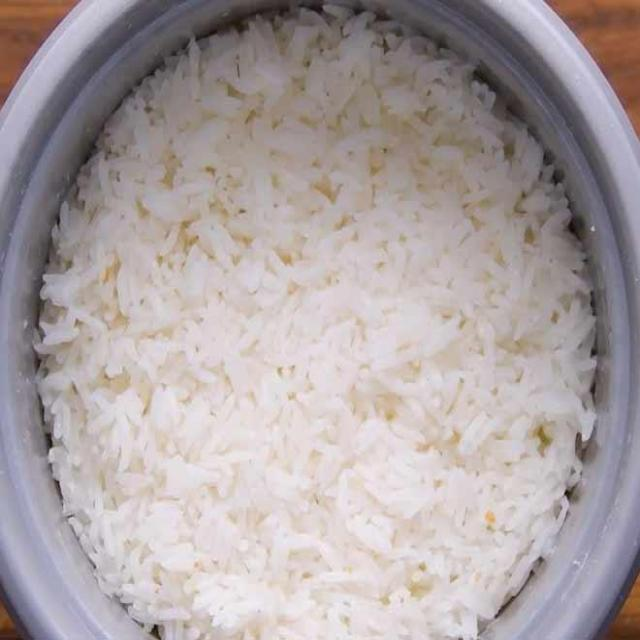rice: (47, 9, 599, 640)
